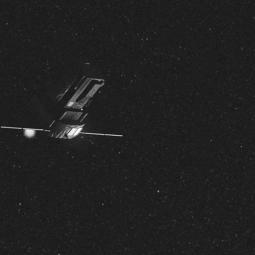soho: (0, 61, 123, 142)
